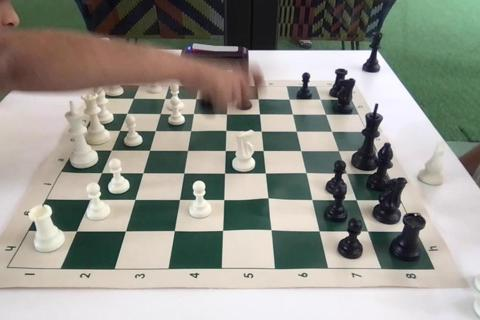xcorner: (286, 94, 298, 106), (255, 94, 267, 106), (224, 93, 236, 105), (193, 93, 205, 105), (162, 92, 174, 104), (131, 92, 143, 104), (322, 110, 334, 122), (289, 109, 301, 121), (256, 109, 268, 121), (223, 108, 235, 120), (190, 108, 202, 120), (157, 107, 169, 119), (124, 107, 136, 119), (328, 127, 340, 139), (293, 126, 305, 138), (222, 125, 234, 137), (187, 125, 199, 137), (152, 124, 164, 136), (117, 124, 129, 136), (335, 146, 347, 158), (297, 146, 309, 158), (259, 145, 271, 157), (221, 145, 233, 157), (183, 144, 195, 156), (146, 144, 158, 156), (108, 143, 120, 155), (342, 169, 354, 181), (261, 168, 273, 180), (220, 167, 232, 179), (179, 167, 191, 179), (138, 166, 150, 178), (98, 166, 110, 178), (352, 196, 364, 208), (307, 195, 319, 207), (219, 194, 231, 206), (174, 193, 186, 205), (130, 193, 142, 205), (86, 192, 98, 204), (362, 227, 374, 239), (314, 227, 326, 239), (265, 226, 277, 238), (168, 225, 180, 237), (120, 224, 132, 236), (317, 95, 329, 106), (258, 126, 269, 138), (302, 169, 314, 180), (263, 195, 275, 206), (217, 226, 229, 237), (71, 224, 83, 235)
